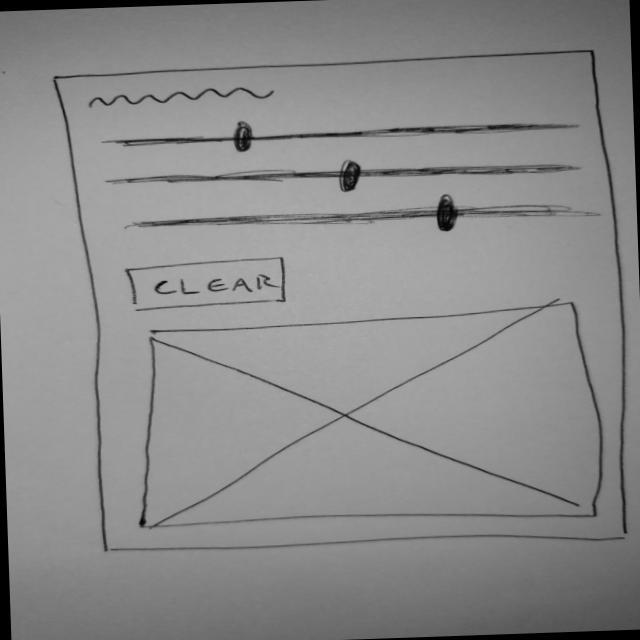button: (120, 255, 295, 314)
container: (45, 43, 637, 565)
image: (131, 302, 606, 539)
slider: (124, 189, 602, 245), (109, 152, 585, 201), (103, 109, 587, 157)
text: (87, 85, 287, 112)
